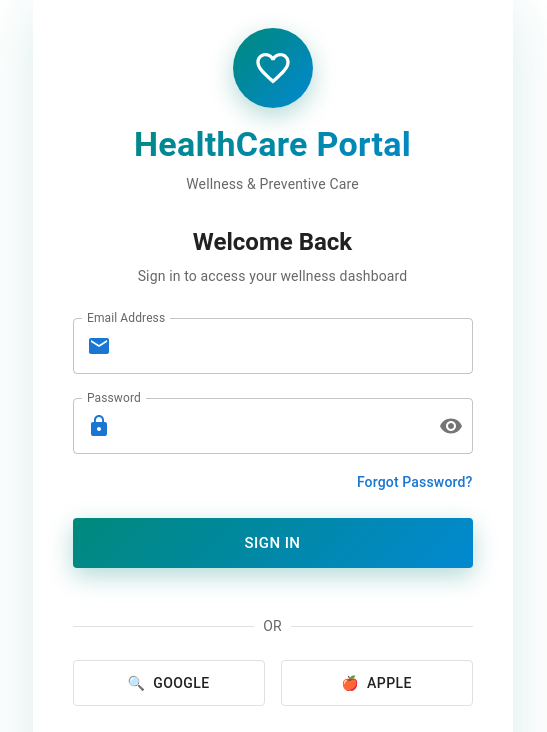
Test: LoginScreen Component › Email Input Validation › shows error for invalid email format
The width and height of the screenshot is (547, 732).
Type "invalid-email" into the field labelled "Email Address" at (296, 346), box [118,318,472,374]
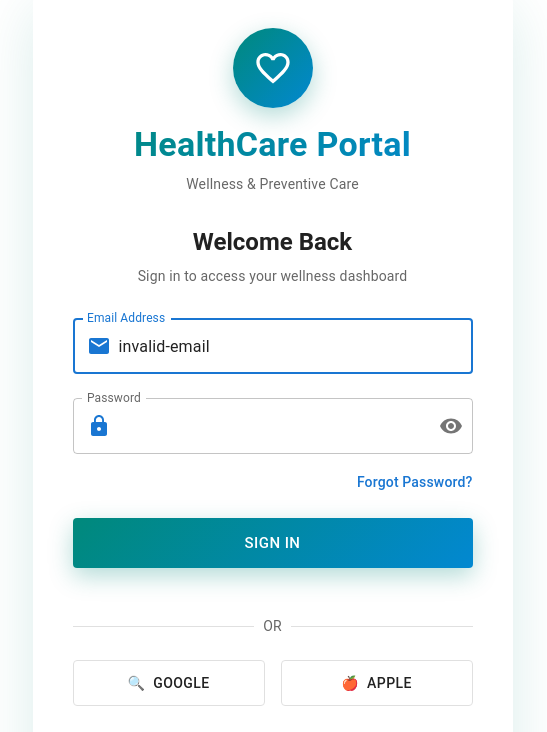
Leave the field labelled "Email Address", box [118,318,472,374]
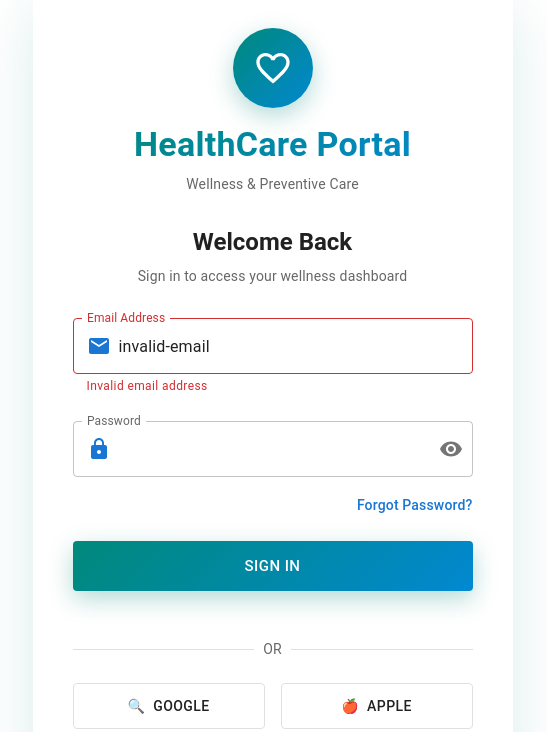
Result: the text "Invalid email address" is shown at [86,379,208,393]
